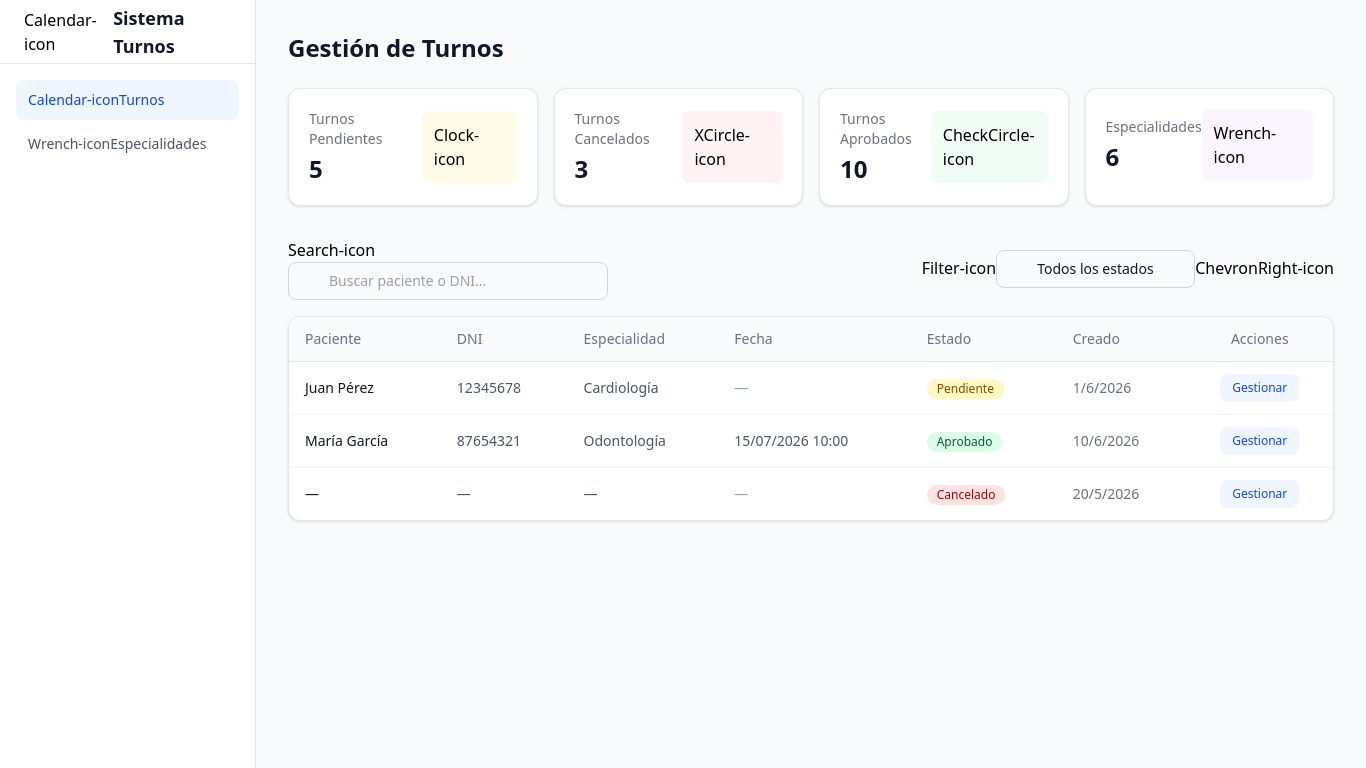
Test: AdminDashboard - ShiftsManagement › filters shifts by patient name
Check: the text "Juan Pérez" is shown, box [289,362,441,414]
Check: the text "María García" is shown, box [289,414,441,468]
Type "Juan" into the field with placeholder "Buscar paciente o DNI..." at (448, 281), box [288,262,608,300]
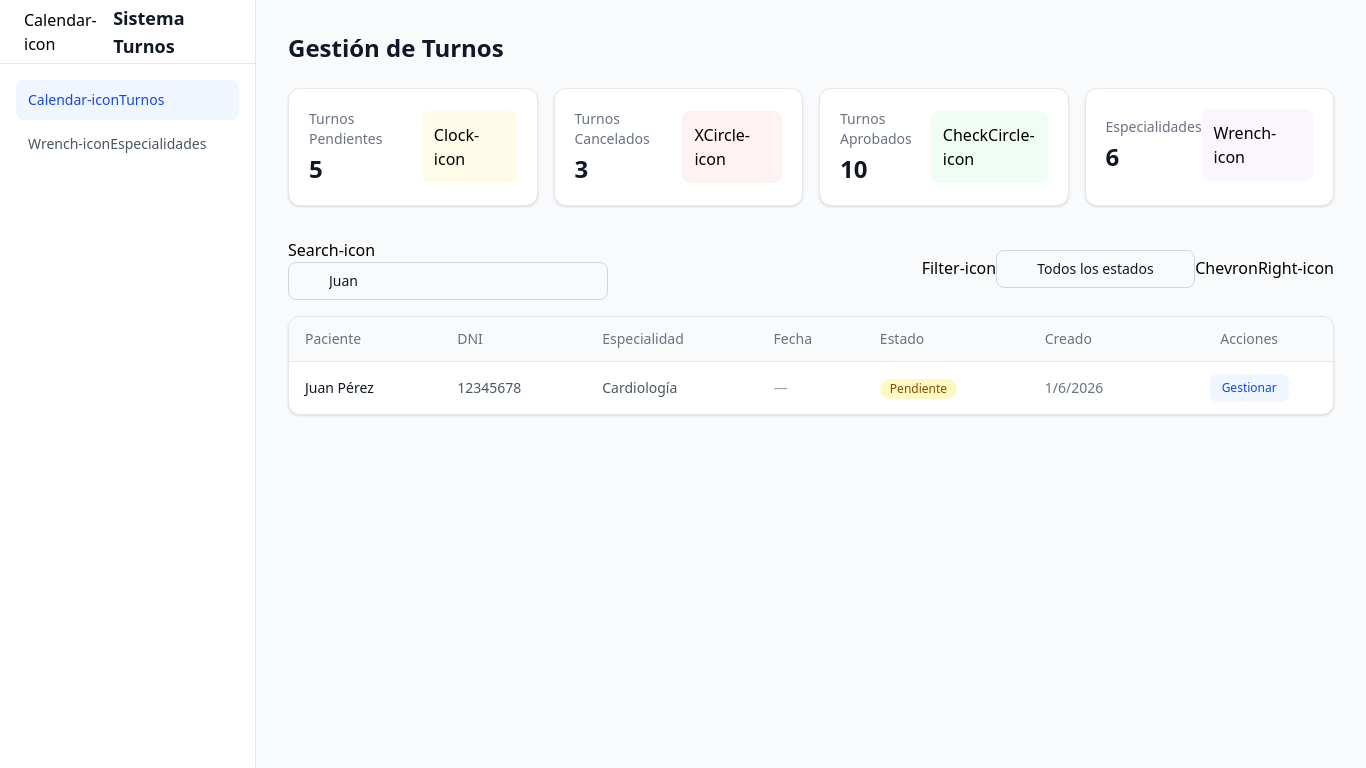
Check: the text "Juan Pérez" is shown, box [289,362,441,414]
Check: the text "María García" is gone
